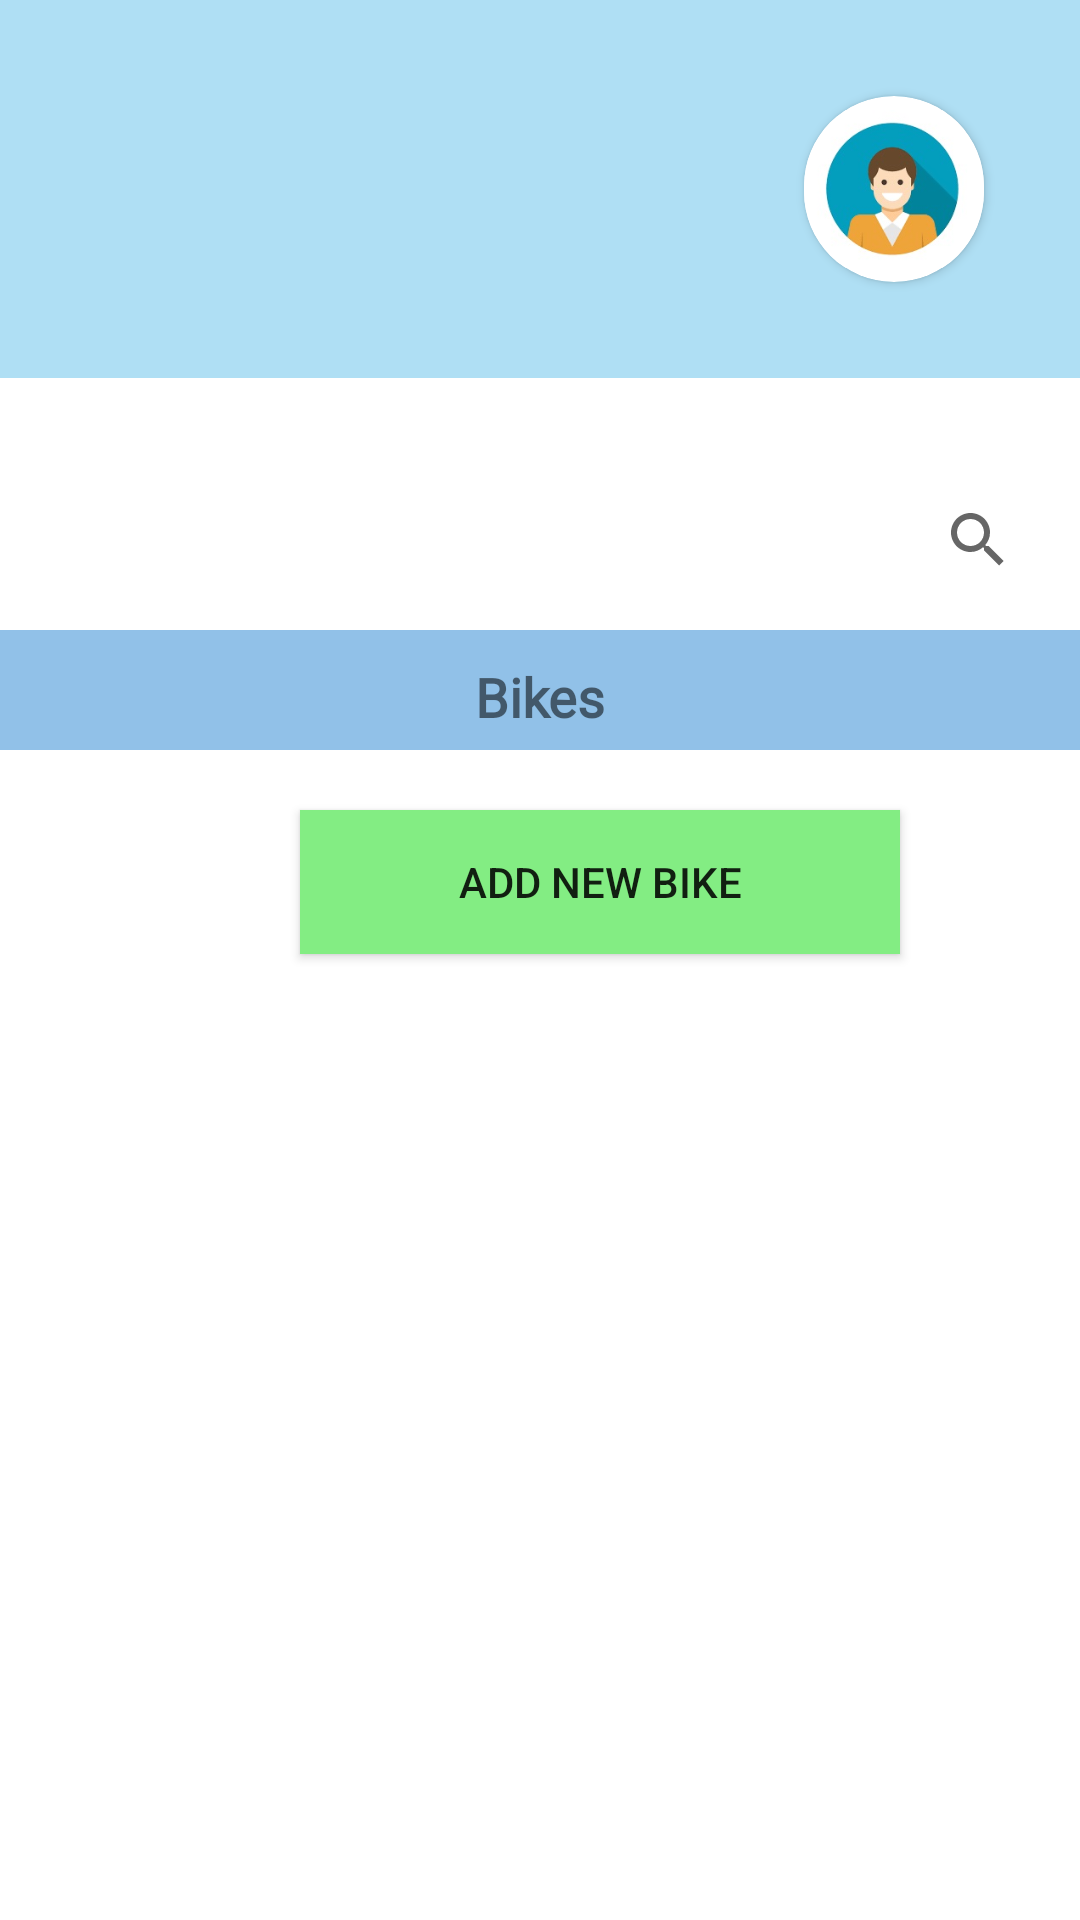

Where to tap for icons on this 1080 x 1920 app screen, as [x,y]:
user: [894,189]
